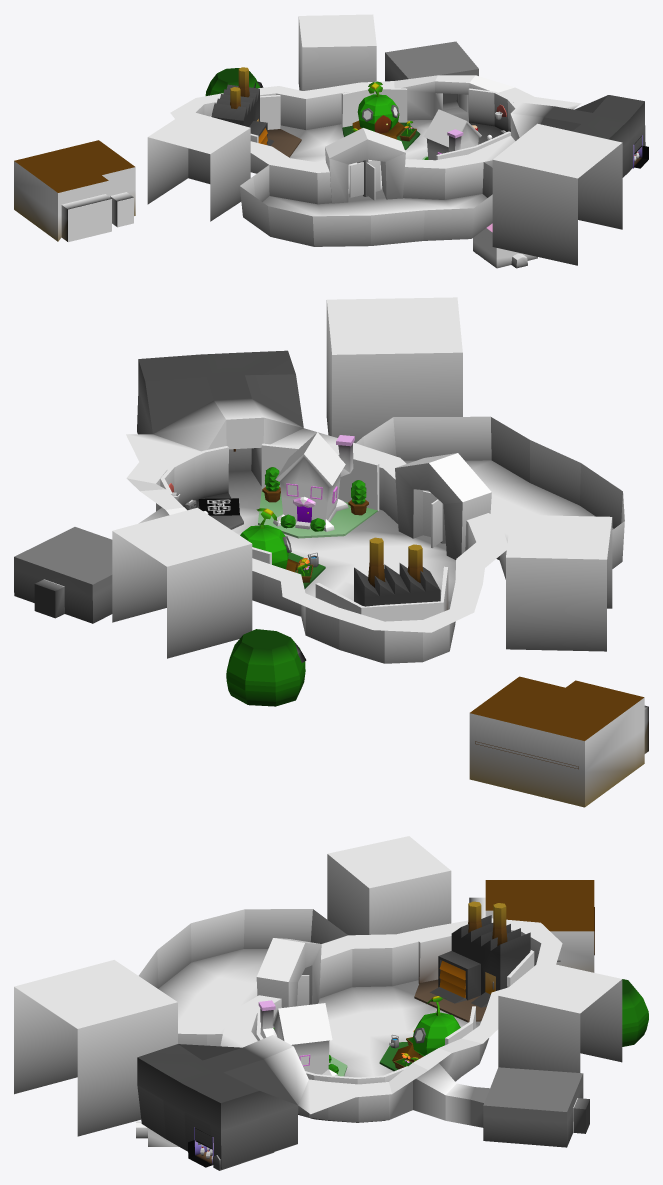
Rendered from ToyTown.fbx.
3 views of the same model, one above another, from view 1: azimuth 30°, elevation 25°; view 2: azimuth 150°, elevation 25°; view 3: azimuth 270°, elevation 25° (orthographic). The views are drawn at different scales.
Parts seen in each view (by area): view 1: island, blocks, inside factory, backdrops, arch, inside factory.004, doll house, Friend factory, Plane, inside dollhouse, sweet pea's house, sweet pea's house.001 (+2 smaller); view 2: island, blocks, inside factory, backdrops, arch, sweet pea's house.001, doll house, Friend factory, backdrops.004, Friend factory.001, sweet pea's house, Plane (+1 smaller); view 3: island, blocks, inside factory, Friend factory, doll house, arch, backdrops, sweet pea's house.001, sweet pea's house, backdrops.003, Friend factory.001, Friend factory.002.
Boxes of the visible parts, x1=… form: island: x1=170, y1=41, x2=648, y2=246; blocks: x1=147, y1=14, x2=622, y2=265; inside factory: x1=14, y1=140, x2=135, y2=241; backdrops: x1=210, y1=88, x2=516, y2=159; arch: x1=325, y1=128, x2=405, y2=203; inside factory.004: x1=68, y1=197, x2=133, y2=242; doll house: x1=423, y1=109, x2=481, y2=160; Friend factory: x1=211, y1=84, x2=273, y2=145; Plane: x1=349, y1=159, x2=380, y2=200; inside dollhouse: x1=473, y1=223, x2=537, y2=268; sweet pea's house: x1=357, y1=94, x2=399, y2=131; sweet pea's house.001: x1=205, y1=68, x2=263, y2=95; island: x1=14, y1=350, x2=624, y2=663; blocks: x1=112, y1=297, x2=612, y2=658; inside factory: x1=469, y1=676, x2=648, y2=807; backdrops: x1=160, y1=443, x2=448, y2=621; arch: x1=395, y1=453, x2=491, y2=559; sweet pea's house.001: x1=226, y1=629, x2=306, y2=706; doll house: x1=273, y1=432, x2=354, y2=531; Friend factory: x1=354, y1=563, x2=440, y2=606; backdrops.004: x1=258, y1=491, x2=377, y2=538; Friend factory.001: x1=368, y1=537, x2=423, y2=587; sweet pea's house: x1=240, y1=525, x2=288, y2=569; Plane: x1=423, y1=491, x2=445, y2=547; island: x1=137, y1=909, x2=589, y2=1169; blocks: x1=14, y1=836, x2=622, y2=1136; inside factory: x1=469, y1=880, x2=594, y2=972; Friend factory: x1=430, y1=915, x2=530, y2=1007; doll house: x1=258, y1=1000, x2=337, y2=1075; arch: x1=256, y1=938, x2=321, y2=1007; backdrops: x1=256, y1=934, x2=534, y2=1122; sweet pea's house.001: x1=622, y1=979, x2=648, y2=1046; sweet pea's house: x1=412, y1=1012, x2=460, y2=1056; backdrops.003: x1=414, y1=979, x2=486, y2=1022; Friend factory.001: x1=468, y1=901, x2=507, y2=946; Friend factory.002: x1=439, y1=960, x2=465, y2=997.
Bounding box in the file's own units: 7258 × 1807 × 6728.
Materials: 29 (1 with a texture image).
